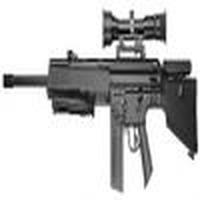gun: (1, 56, 199, 158)
